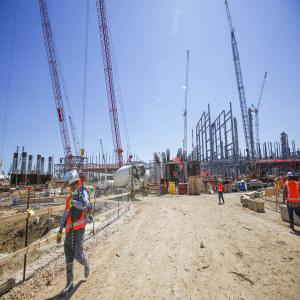white: (70, 175, 80, 193), (288, 173, 295, 181), (221, 181, 223, 185), (219, 180, 221, 183), (275, 180, 277, 183), (277, 179, 279, 182), (281, 178, 283, 181), (165, 182, 167, 184), (209, 183, 210, 185), (209, 170, 210, 172), (216, 173, 217, 175), (159, 183, 160, 185), (14, 185, 15, 187), (212, 176, 213, 177), (233, 178, 234, 179), (247, 176, 248, 177), (62, 187, 63, 188), (58, 187, 59, 188), (94, 184, 95, 185), (2, 184, 3, 185)
